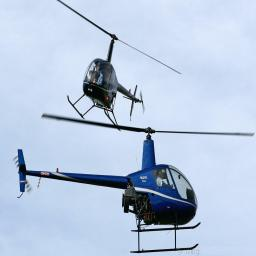helicopter: (16, 112, 256, 255), (43, 2, 184, 134)
